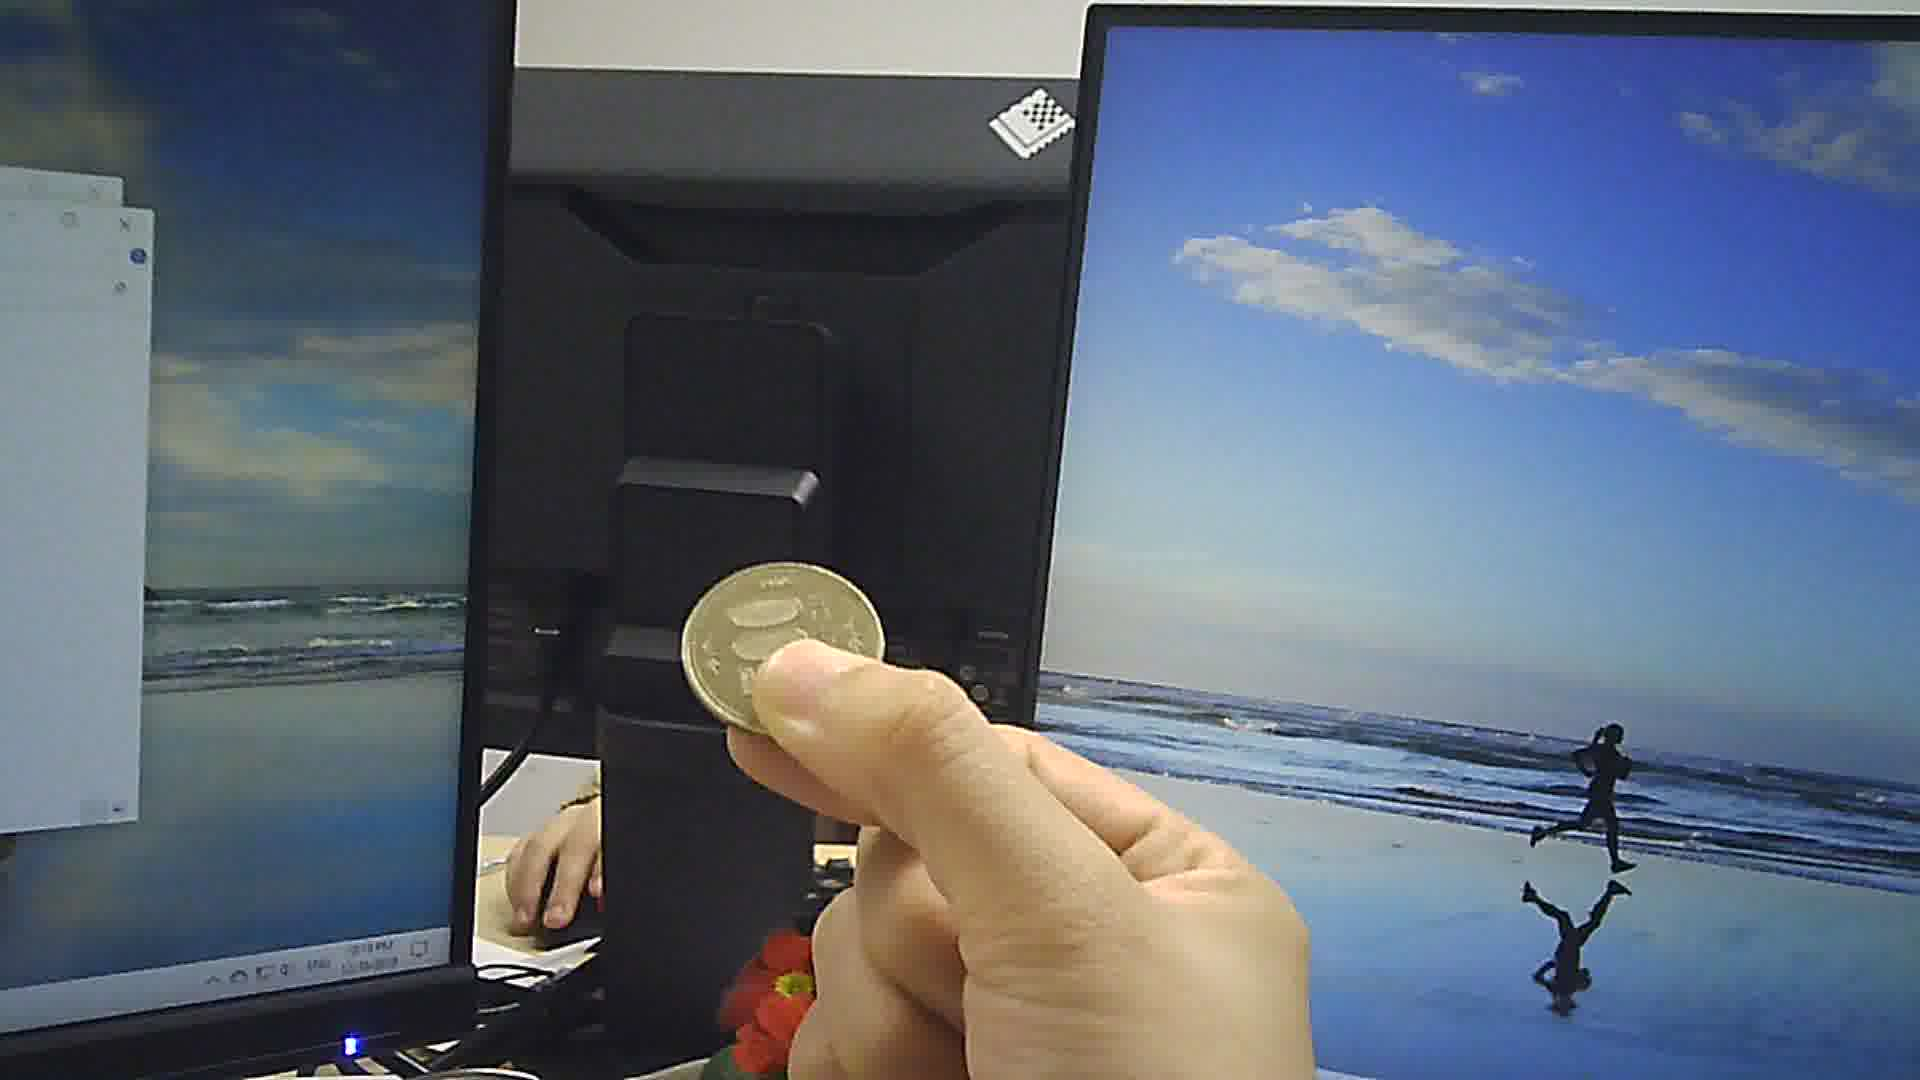500 Yen: (678, 560, 884, 737)
